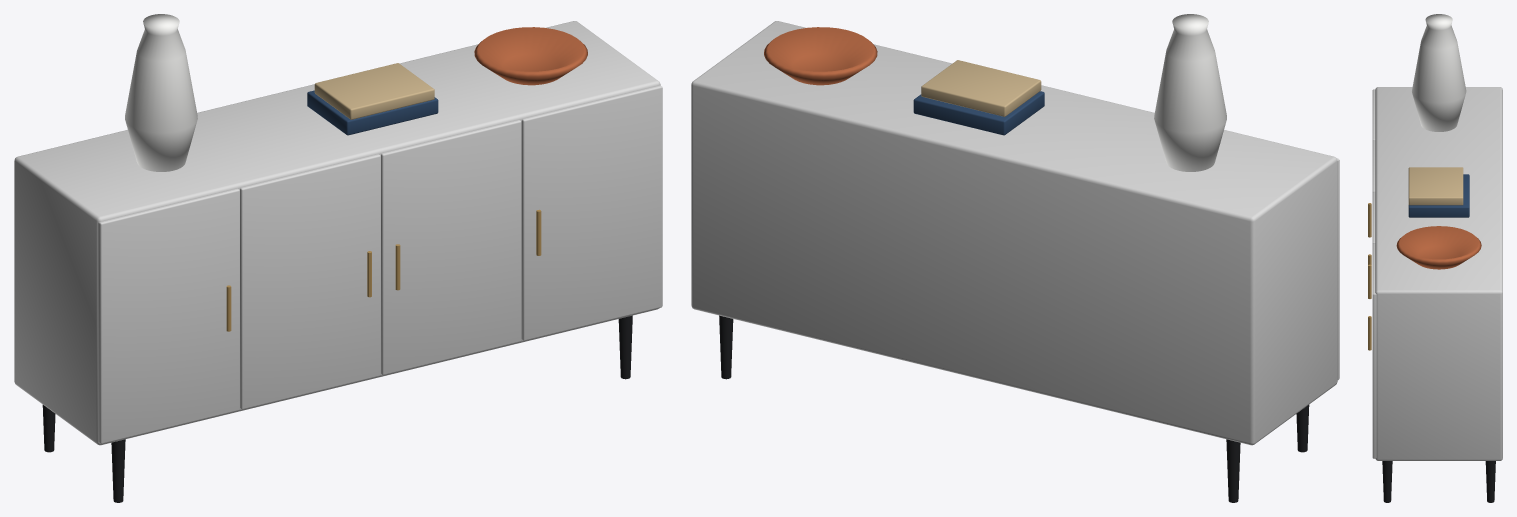
Rendered from aparador.glb.
3 views of the same model, side by side, from view 1: azimuth 30°, elevation 25°; view 2: azimuth 150°, elevation 25°; view 3: azimuth 270°, elevation 25° (orthographic). The views are drawn at different scales.
Visible parts, largest first — view 1: p; view 2: p; view 3: p.
Part boxes in pixels (x1,y1,x2,y2): p: (14,14,662,502); p: (691,14,1339,502); p: (1368,14,1502,502).
Size of the model in its own units: 1.6 by 1.18 by 0.444.
